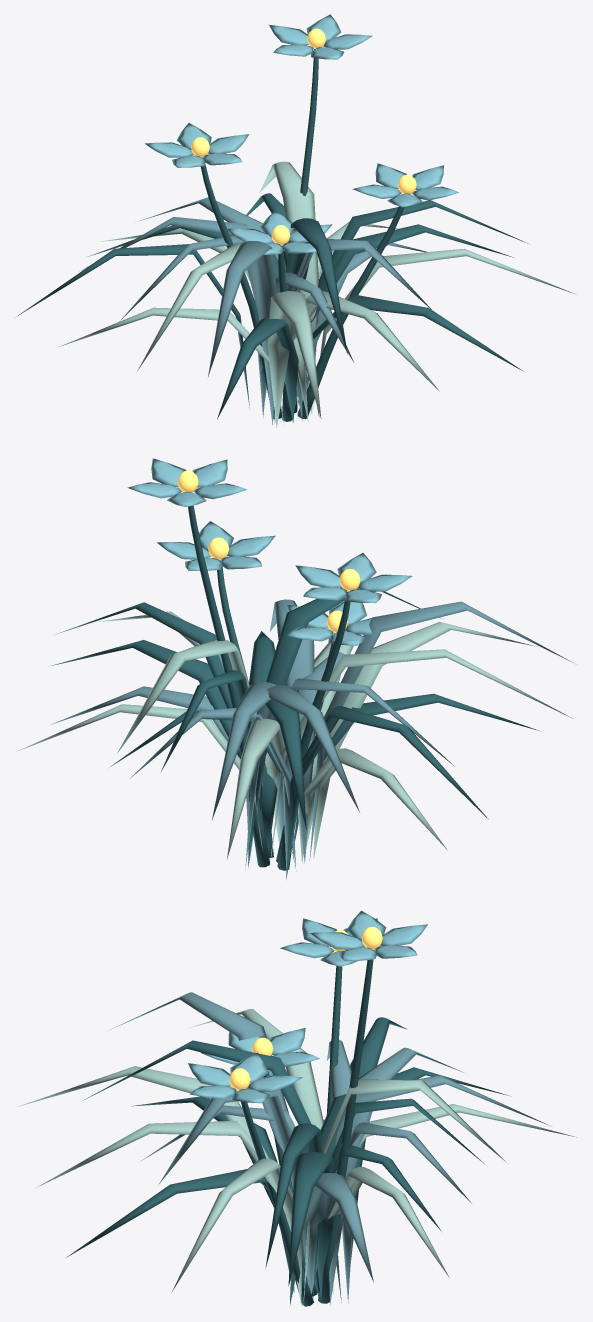
Rendered from SM_SP_StarFlowers.fbx.
The picture shows the model from 3 angles, top to bottom: view 1: azimuth 30°, elevation 25°; view 2: azimuth 150°, elevation 25°; view 3: azimuth 270°, elevation 25°; orthographic projection. The views are drawn at different scales.
Visible parts, largest first — view 1: SM_SP_StarFlowers; view 2: SM_SP_StarFlowers; view 3: SM_SP_StarFlowers.
Part boxes in pixels (<box>): SM_SP_StarFlowers: <box>16,14,575,428</box>; SM_SP_StarFlowers: <box>16,458,573,879</box>; SM_SP_StarFlowers: <box>17,910,576,1306</box>.
Size of the model in its own units: 0.64 by 0.6088 by 0.4757.
